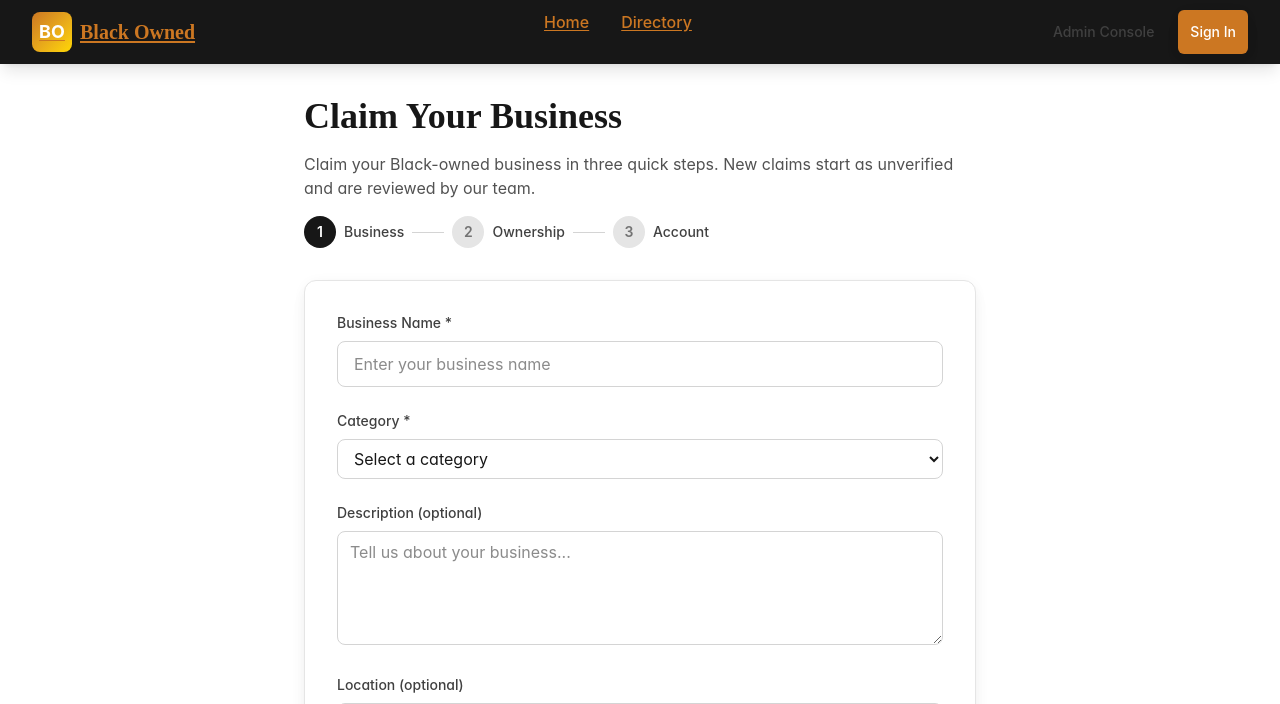
Scenario: ClaimBusinessPage › moves to the ownership step, which is gated on the checkbox
Type "Soul Kitchen" into the field labelled "Business Name *".
click(640, 364); type("Soul Kitchen")  # box [337,341,943,387]
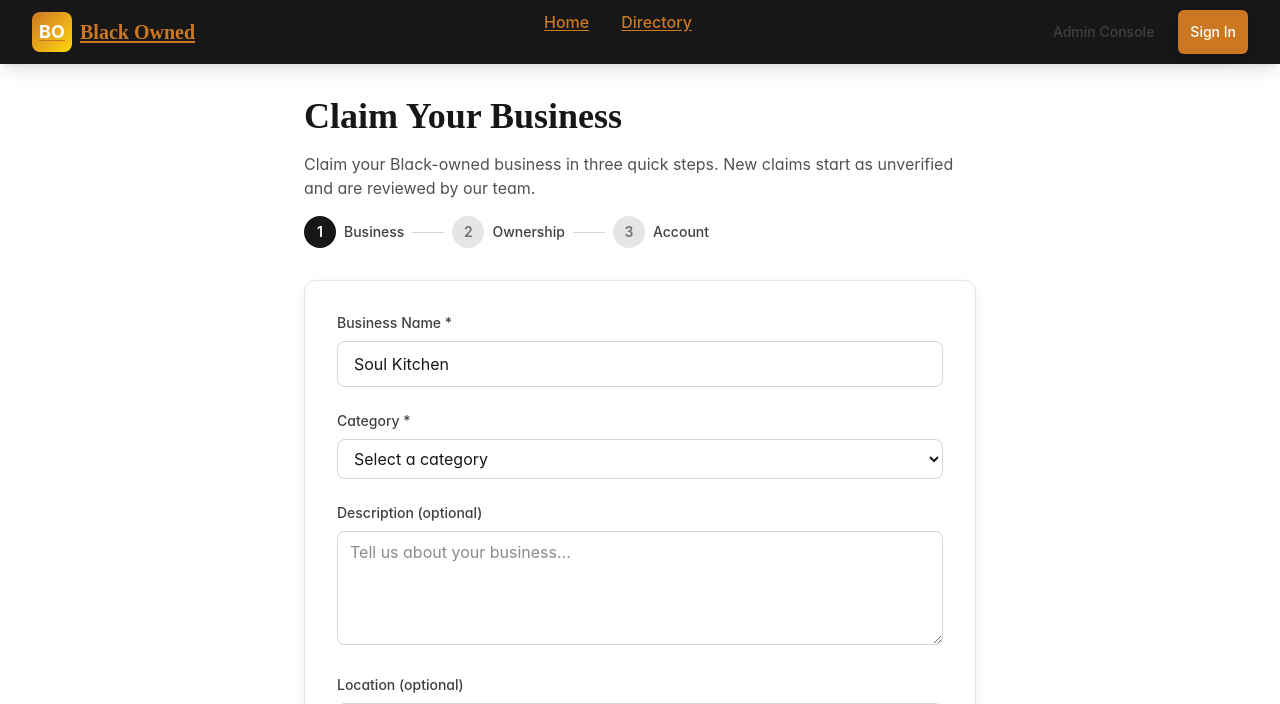
Select "Food & Dining" in the dropdown labelled "Category *" at (640, 459), box [337,439,943,479]
(page scrolled)
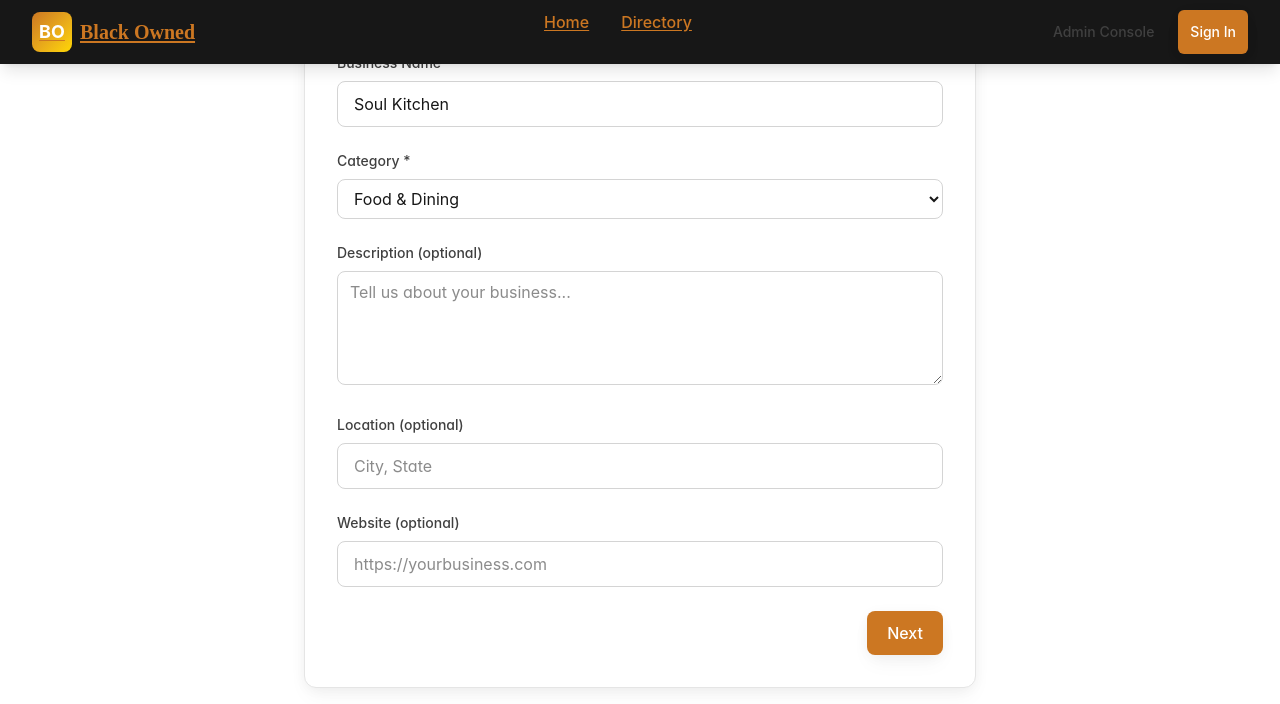
Expected: the button "Next" is enabled
Click the button "Next".
click(905, 633)  # box [867,611,943,655]
(page scrolled)
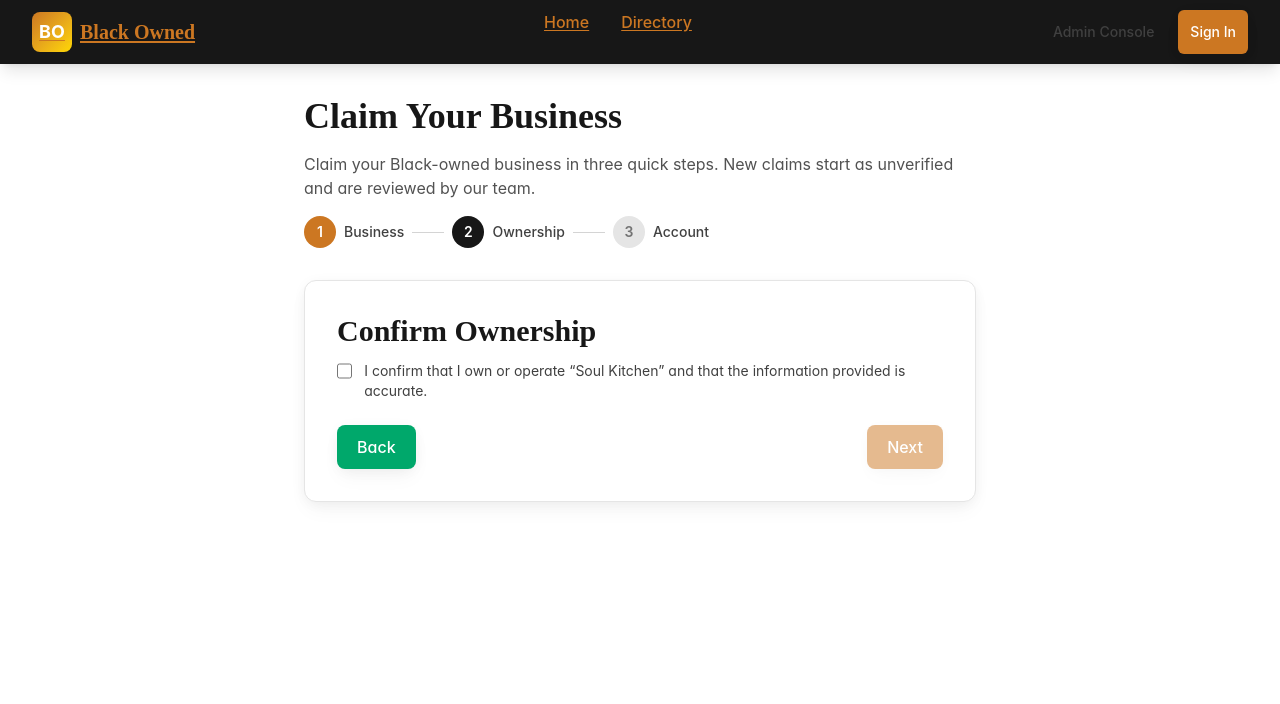
Expected: the heading "Confirm Ownership" is shown, [337,314,596,347]
Expected: the text "I own or operate" is shown, [364,362,575,379]
Expected: the button "Next" is disabled, [867,425,943,469]
Click the checkbox labelled "I confirm that I own or operate".
click(345, 371)  # box [337,363,352,379]
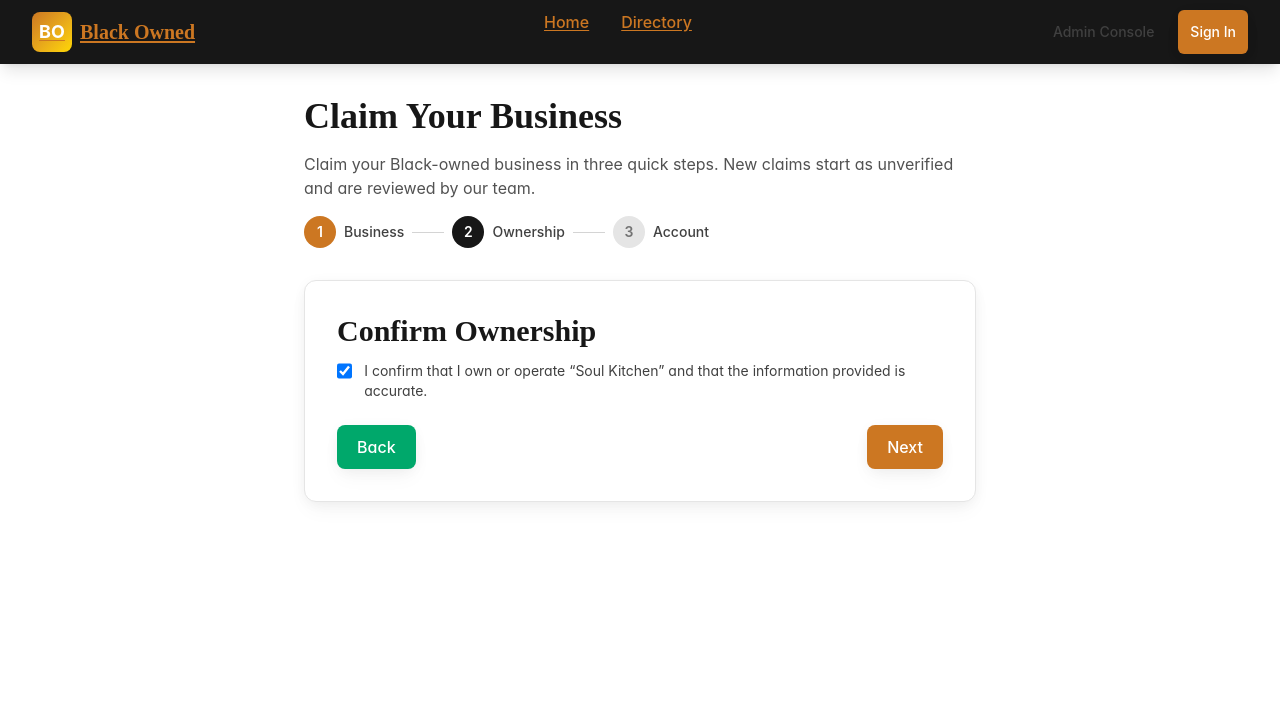
Expected: the button "Next" is enabled, [867,425,943,469]
Click the button "Back".
click(376, 447)  # box [337,425,416,469]
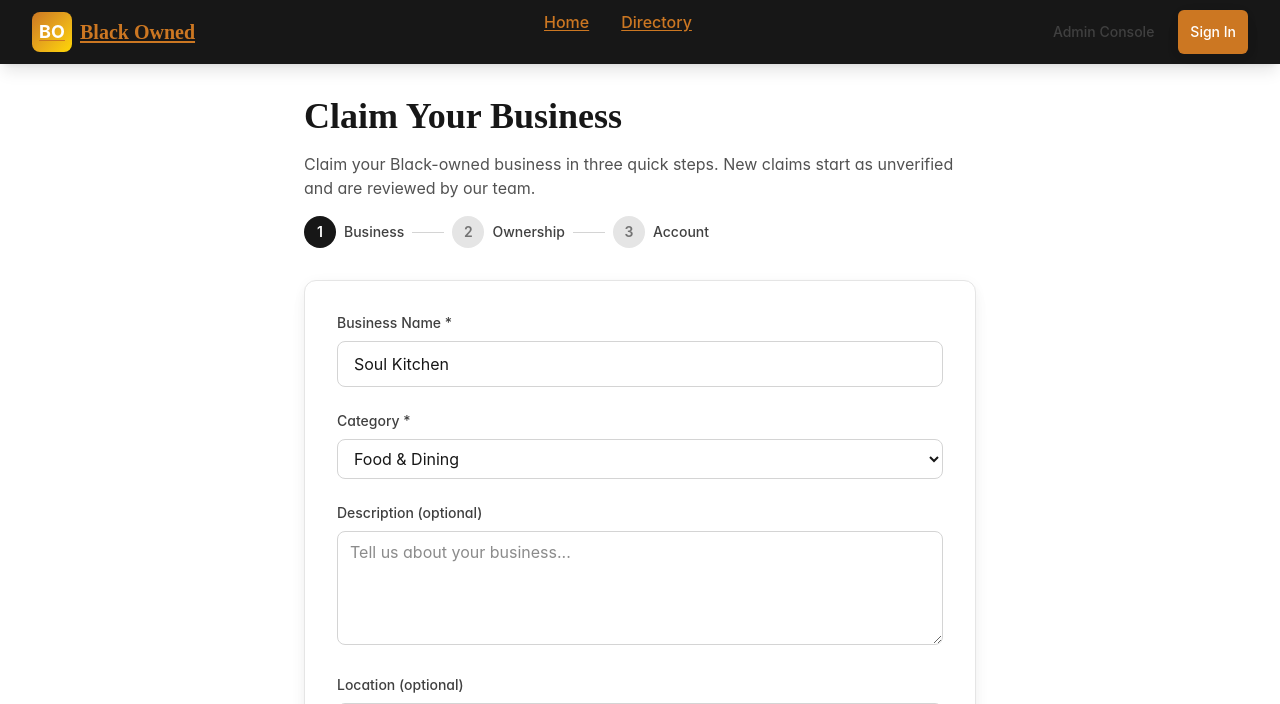
Expected: the field labelled "Business Name *" is shown, [337,341,943,387]
